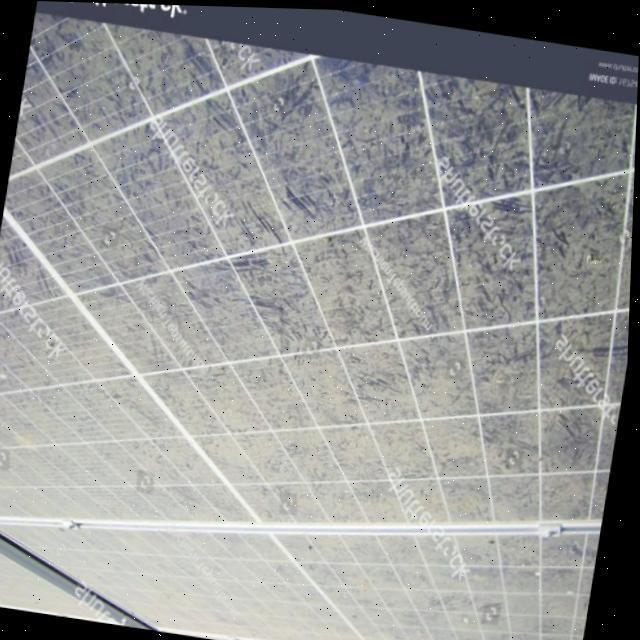Anomaly Solar Panel: (0, 14, 637, 640)
Surface Contaminant: (0, 17, 637, 640), (0, 551, 116, 623)
